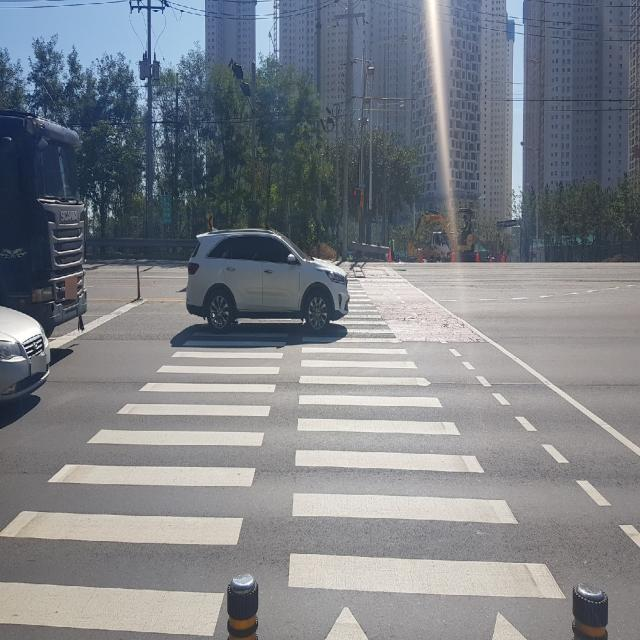횡단보도: (0, 253, 567, 640)
